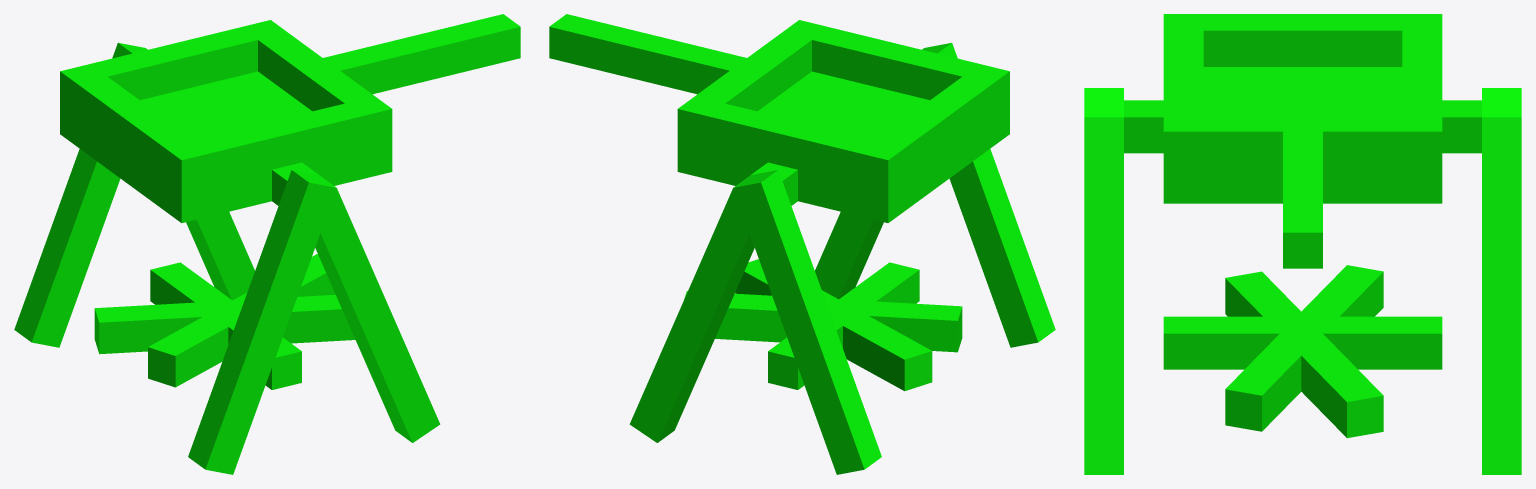
The model's file is cookPan.obj.
3 renders of one model, left to right at view 1: azimuth 30°, elevation 25°; view 2: azimuth 150°, elevation 25°; view 3: azimuth 270°, elevation 25°, orthographic. The views are drawn at different scales.
Visible parts, largest first — view 1: PotBottom, StandSide3, PotSide1, StandSide4, StandSide1, PotSide3, PotHandle, Log3, Log1, PotSide2, PotSide4, Log2 (+2 smaller); view 2: PotBottom, StandSide1, StandSide2, PotSide3, StandSide3, PotSide1, PotHandle, Log1, Log3, PotSide2, PotSide4, Log2 (+2 smaller); view 3: PotBottom, StandSide2, StandSide4, Log2, PotSide2, PotSide4, Log1, Log3, PotSide1, PotSide3, PotHandle, PotHolder2 (+3 smaller).
Part boxes in pixels (bbox=[...]): PotBottom: bbox=[60, 71, 392, 222]; StandSide3: bbox=[188, 170, 336, 474]; PotSide1: bbox=[164, 96, 392, 191]; StandSide4: bbox=[309, 188, 440, 442]; StandSide1: bbox=[14, 42, 147, 347]; PotSide3: bbox=[60, 20, 287, 114]; PotHandle: bbox=[323, 14, 520, 94]; Log3: bbox=[94, 294, 355, 354]; Log1: bbox=[148, 254, 335, 387]; PotSide2: bbox=[77, 76, 193, 178]; PotSide4: bbox=[258, 32, 374, 111]; Log2: bbox=[150, 262, 301, 389]; PotBottom: bbox=[677, 71, 1009, 222]; StandSide1: bbox=[733, 170, 881, 474]; StandSide2: bbox=[629, 188, 760, 442]; PotSide3: bbox=[677, 96, 905, 191]; StandSide3: bbox=[922, 42, 1055, 347]; PotSide1: bbox=[782, 20, 1009, 114]; PotHandle: bbox=[549, 14, 746, 94]; Log1: bbox=[684, 291, 962, 352]; Log3: bbox=[735, 259, 932, 391]; PotSide2: bbox=[876, 76, 992, 178]; PotSide4: bbox=[695, 32, 811, 111]; Log2: bbox=[768, 262, 919, 389]; PotBottom: bbox=[1163, 67, 1442, 203]; StandSide2: bbox=[1482, 117, 1521, 474]; StandSide4: bbox=[1084, 117, 1123, 474]; Log2: bbox=[1163, 316, 1442, 369]; PotSide2: bbox=[1203, 14, 1402, 66]; PotSide4: bbox=[1203, 115, 1402, 167]; Log1: bbox=[1225, 271, 1383, 438]; Log3: bbox=[1225, 265, 1383, 431]; PotSide1: bbox=[1163, 14, 1203, 167]; PotSide3: bbox=[1402, 14, 1442, 167]; PotHandle: bbox=[1283, 131, 1322, 268]; PotHolder2: bbox=[1124, 100, 1163, 153].
Size of the model in its own units: 0.8355 by 0.6061 by 0.6875.
